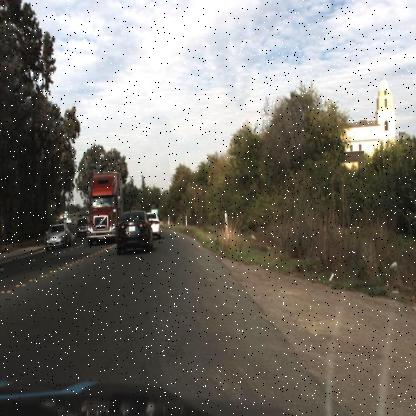car: (115, 209, 154, 255), (138, 200, 168, 244), (44, 220, 71, 250), (150, 208, 164, 240)
truck: (86, 169, 124, 247)
